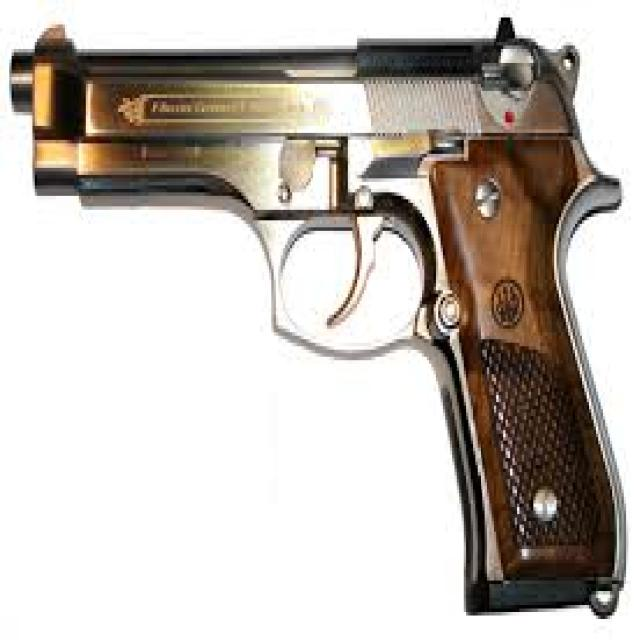pistol: (7, 11, 638, 633)
